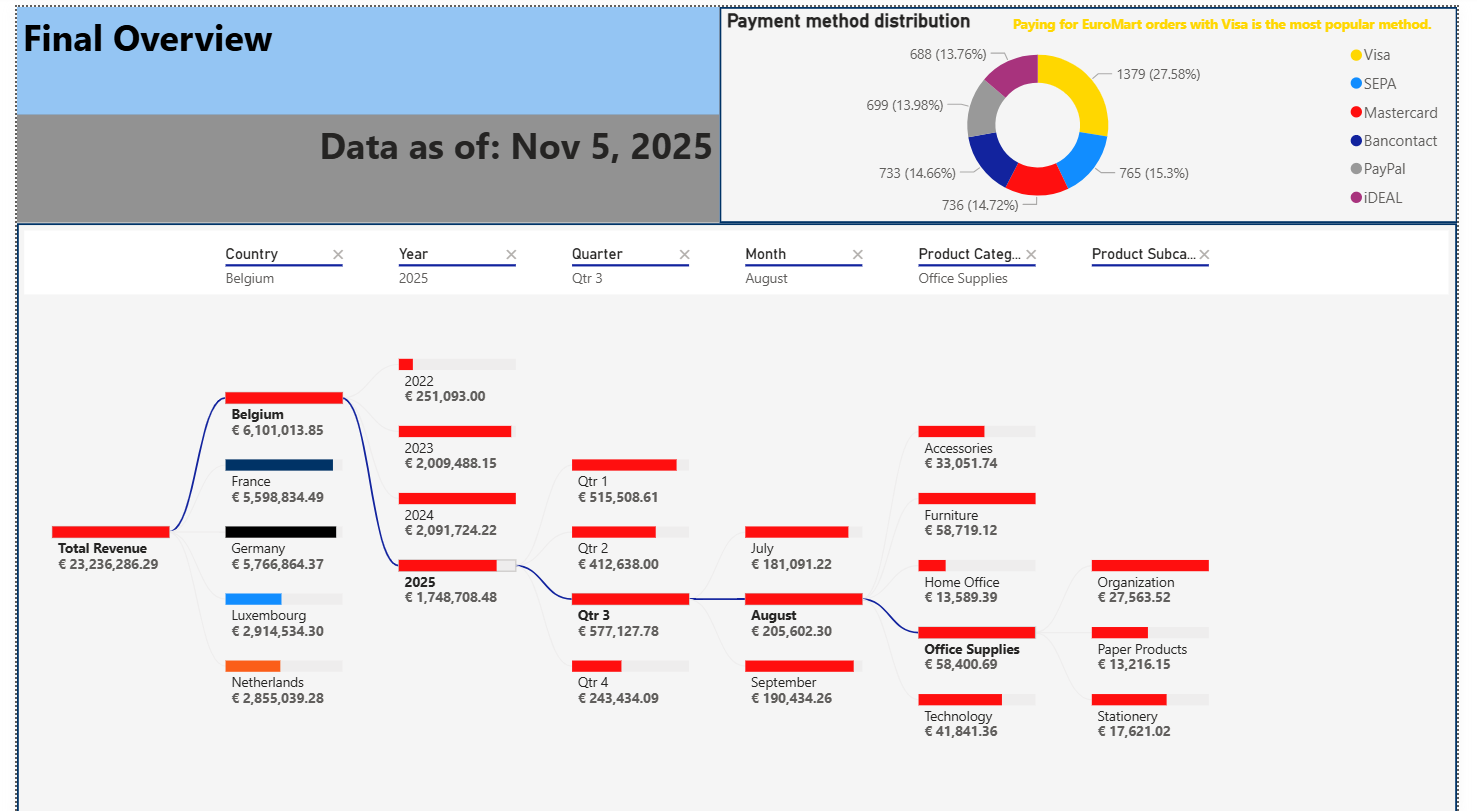

The dashboard page shown, as its layout file describes it:
{"tool":"powerbi","page":{"name":"Final Overview","canvas":[1280,720],"ordinal":7},"visuals":[{"type":"donutChart","title":"Payment method distribution","fields":{"Category":["fact_sales.payment_method"],"Y":["fact_sales.Total Orders"]},"box":[624,0,656,192],"z":0},{"type":"decompositionTreeVisual","fields":{"Analyze":["fact_sales.Total Revenue"],"ExplainBy":["fact_sales.region_country","dim_date.full_date.Variation.Date Hierarchy.Year","dim_date.full_date.Variation.Date Hierarchy.Quarter","dim_date.full_date.Variation.Date Hierarchy.Month","fact_sales.product_category","fact_sales.product_subcategory"]},"box":[0,192,1280,528],"z":1000},{"type":"textbox","box":[880,0,384,32],"z":2000},{"type":"textbox","box":[0,0,624,96],"z":3000},{"type":"textbox","box":[0,96,624,96],"z":4000}]}

Visuals, with their boxes in screenshot pixels (x1, y1, x2, y2), scaled from the page's 1280x720 canvas onto the 1477x811 screenshot:
"Payment method distribution" donutChart: box=[720, 0, 1476, 216]
decompositionTreeVisual - fact_sales.Total Revenue x fact_sales.region_country: box=[0, 216, 1476, 810]
textbox: box=[1015, 0, 1459, 36]
textbox: box=[0, 0, 720, 108]
textbox: box=[0, 108, 720, 216]
